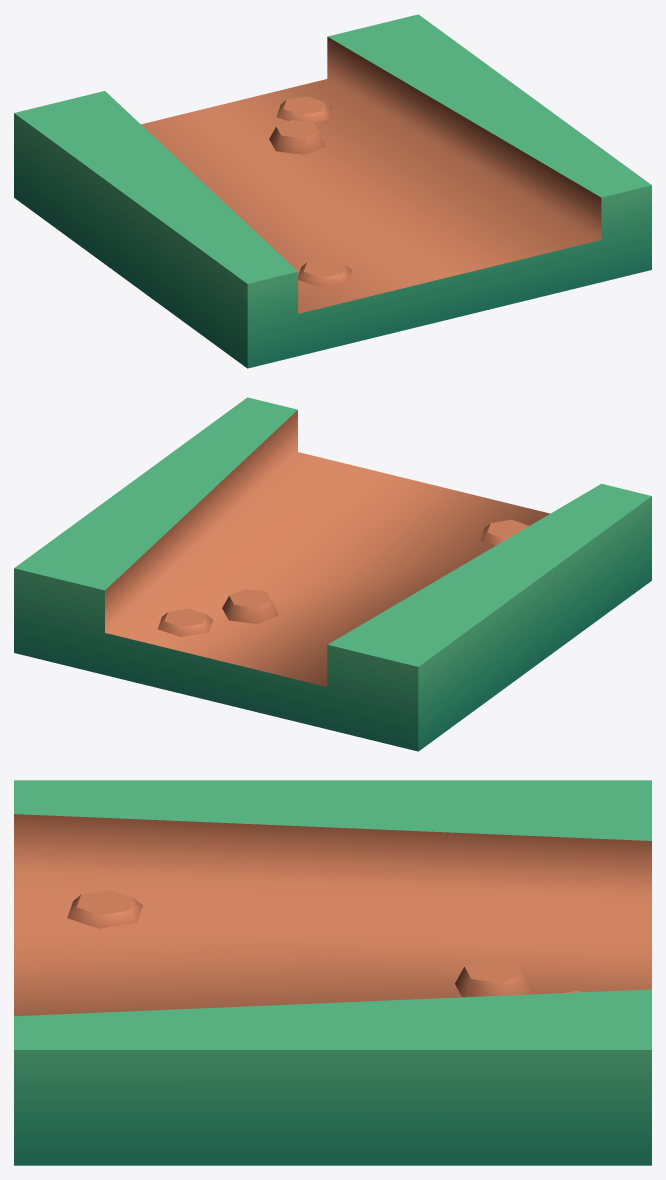
The model's file is kenney-tower-defense-tile.glb.
3 views of the same model, one above another, from view 1: azimuth 30°, elevation 25°; view 2: azimuth 150°, elevation 25°; view 3: azimuth 270°, elevation 25° (orthographic). The views are drawn at different scales.
Parts seen in each view (by area): view 1: tile-transition; view 2: tile-transition; view 3: tile-transition.
Boxes of the visible parts, x1,y1,x2,y2 form: tile-transition: [14, 14, 651, 368]; tile-transition: [14, 397, 651, 751]; tile-transition: [14, 780, 651, 1165].
Size of the model in its own units: 1 by 0.2 by 1.
Materials: 1 (1 with a texture image).
